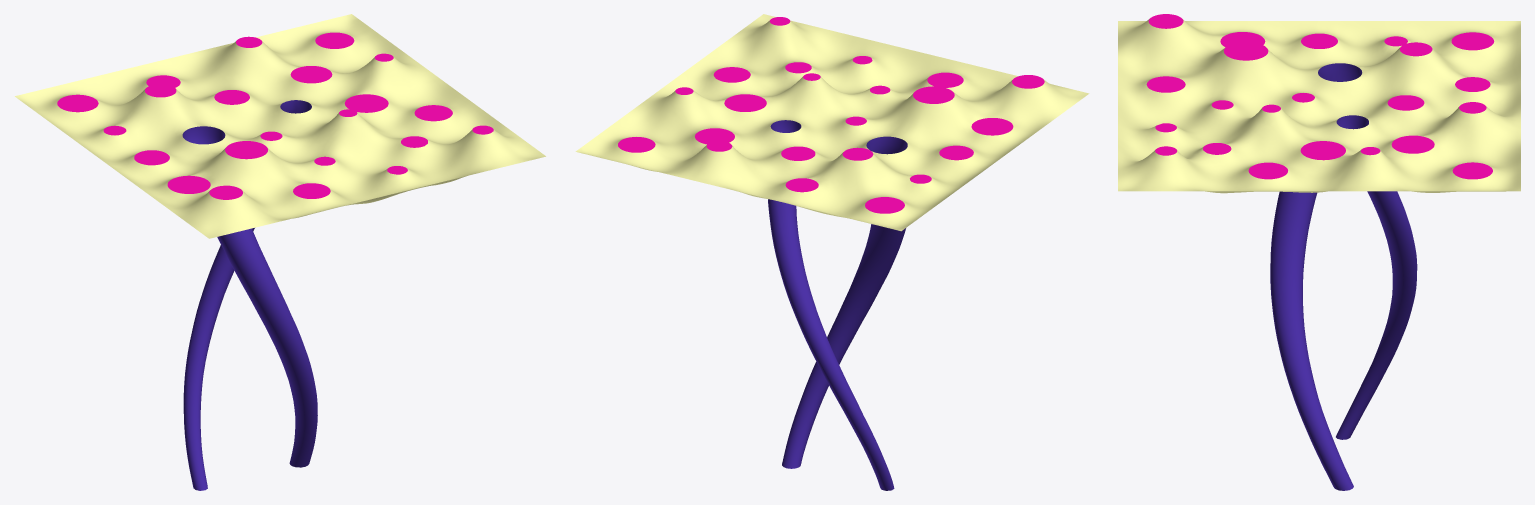
Rendered from Roof_01_columns_simple.fbx.
3 views of the same model, side by side, from view 1: azimuth 30°, elevation 25°; view 2: azimuth 150°, elevation 25°; view 3: azimuth 270°, elevation 25° (orthographic). The views are drawn at different scales.
Parts seen in each view (by area): view 1: Roof_v1_columns_simple; view 2: Roof_v1_columns_simple; view 3: Roof_v1_columns_simple.
Boxes of the visible parts, bbox=[...] form: Roof_v1_columns_simple: bbox=[15, 14, 545, 490]; Roof_v1_columns_simple: bbox=[575, 14, 1089, 490]; Roof_v1_columns_simple: bbox=[1118, 14, 1520, 490].
Bounding box in the file's own units: 5 × 5.27 × 5.
